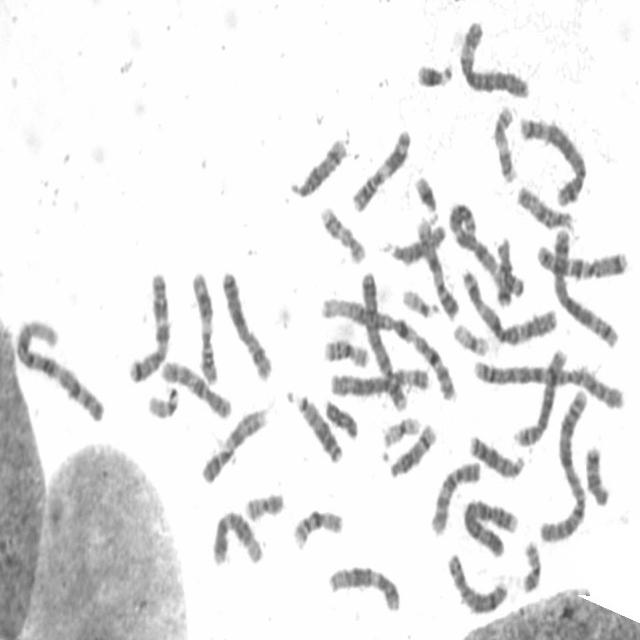A1: (314, 288, 460, 404), (10, 310, 107, 424)
A2: (470, 352, 626, 412), (535, 382, 590, 545)
A3: (444, 195, 526, 302), (458, 260, 560, 346)
B4: (356, 262, 410, 413), (459, 491, 520, 559)
B5: (547, 220, 621, 352), (515, 109, 589, 208)
C10: (156, 352, 234, 420), (426, 453, 483, 537)
C11: (347, 120, 412, 214), (187, 264, 220, 386)
C12: (324, 557, 402, 614), (208, 503, 266, 568)
C6: (455, 13, 532, 100), (325, 360, 433, 400)
C7: (124, 264, 172, 386), (532, 236, 630, 282)
C8: (510, 340, 568, 448), (443, 545, 511, 616)
C9: (197, 401, 271, 486), (412, 210, 460, 322)
D13: (288, 384, 344, 466), (465, 426, 527, 481)
D14: (285, 130, 348, 200), (385, 416, 437, 481)
D15: (513, 176, 576, 232), (382, 216, 448, 266)
E16: (288, 501, 345, 552), (319, 330, 372, 370)
E17: (316, 198, 368, 266), (489, 98, 519, 185)
E18: (581, 438, 612, 508), (492, 230, 514, 308)
F19: (378, 408, 422, 449), (449, 316, 491, 358)
F20: (240, 484, 286, 522), (517, 534, 543, 595)
G21: (410, 166, 441, 224), (411, 53, 455, 90)
G22: (398, 280, 442, 320), (143, 380, 181, 420)
X: (217, 262, 274, 382)
Y: (320, 392, 360, 441)
